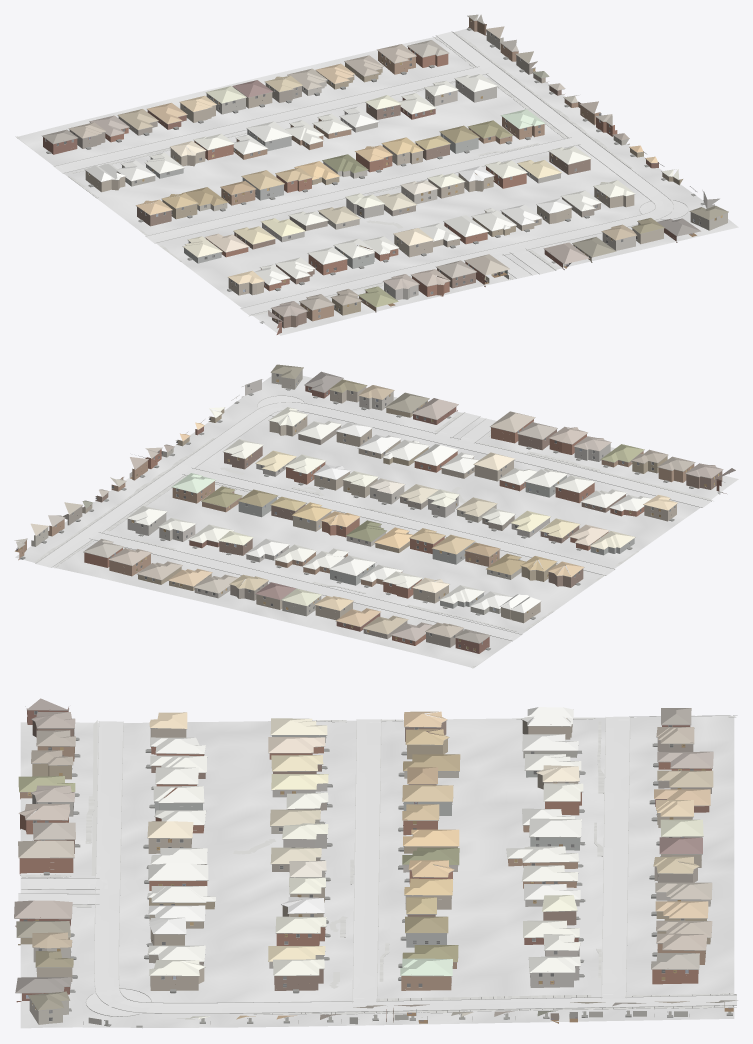
3 views of the same model, one above another, from view 1: azimuth 30°, elevation 25°; view 2: azimuth 150°, elevation 25°; view 3: azimuth 270°, elevation 25° (orthographic). The views are drawn at different scales.
Visible parts, largest first — view 1: ground, roof, wall, concrete, wall_stucco, detail, curb, walk, wall_stone, glass; view 2: ground, roof, wall, concrete, wall_stucco, detail, curb, walk, wall_stone, glass; view 3: ground, roof, concrete, wall, detail, wall_stucco, walk, curb, wall_stone, glass, room.
Boxes of the visible parts, x1,y1,x2,y2 form: ground: (16,28,738,335); roof: (42,14,728,320); wall: (43,17,682,334); concrete: (54,31,688,314); wall_stucco: (116,30,727,295); detail: (42,16,728,323); curb: (16,31,688,315); walk: (16,32,632,316); wall_stone: (262,80,719,300); glass: (45,33,704,317); ground: (15,376,738,668); roof: (14,364,735,643); wall: (18,385,726,653); concrete: (36,396,711,640); wall_stucco: (31,370,676,616); detail: (19,368,729,651); curb: (35,395,711,667); walk: (34,412,713,668); wall_stone: (127,379,610,562); glass: (39,374,674,647); ground: (20,715,734,1028); roof: (14,698,737,1019); concrete: (18,716,736,1016); wall: (15,707,711,1022); detail: (14,706,732,1027); wall_stucco: (29,728,710,1024); walk: (20,716,735,1014); curb: (18,715,737,1016); wall_stone: (32,783,579,987); glass: (23,711,693,1021); room: (27,718,733,1024).
Size of the model in its own units: 263 by 12.2 by 254.
